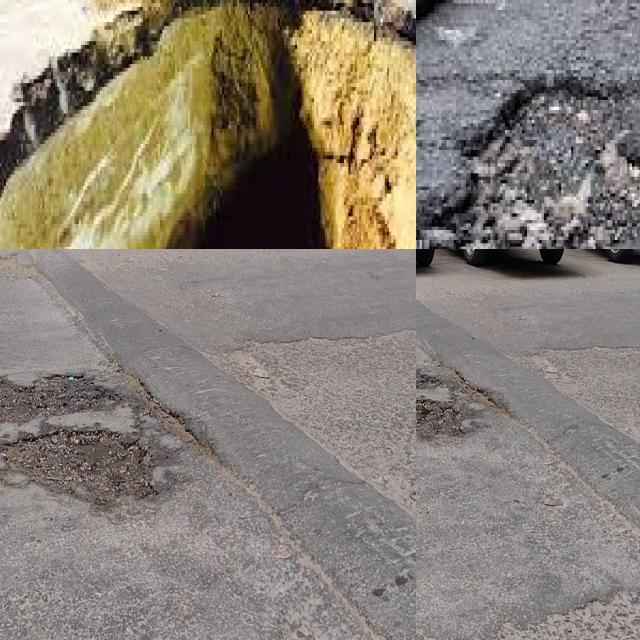Pothole: (0, 0, 416, 249), (427, 97, 640, 249), (0, 424, 154, 506), (0, 369, 106, 425), (416, 372, 456, 442)
